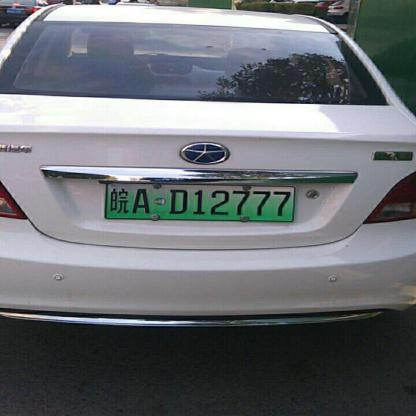lp: (104, 183, 295, 219)
